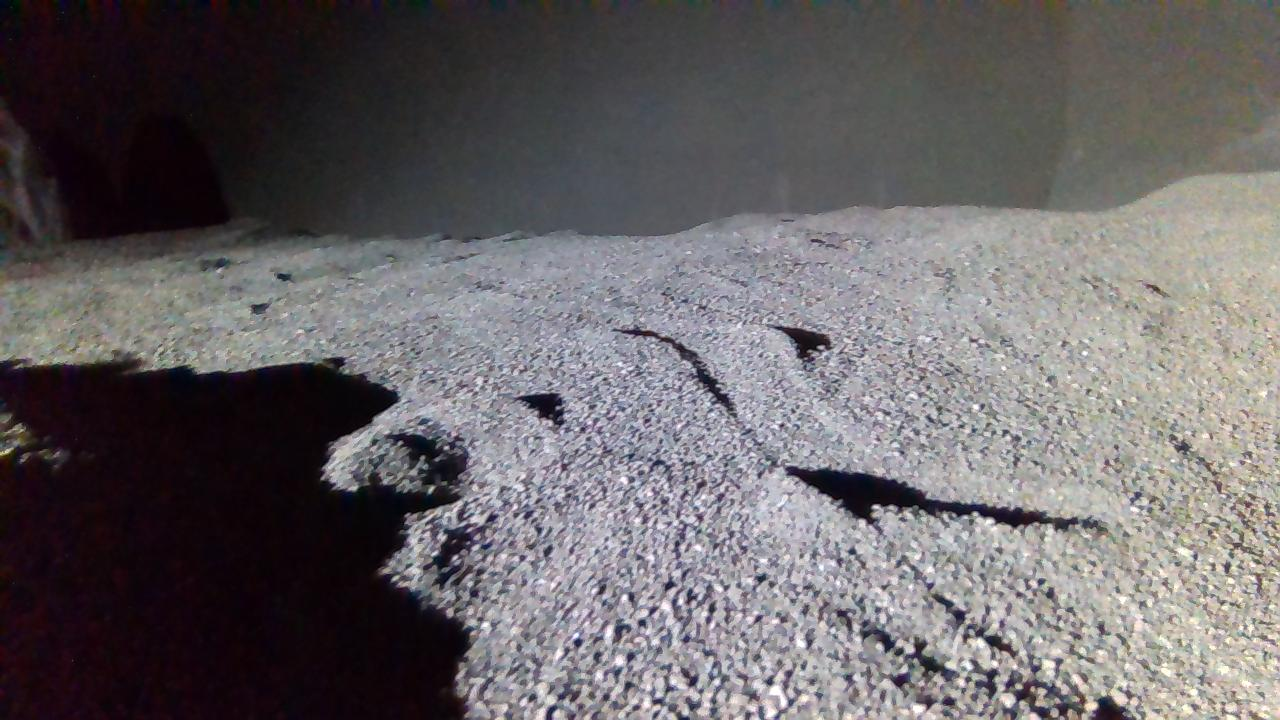rock: (0, 103, 67, 248)
